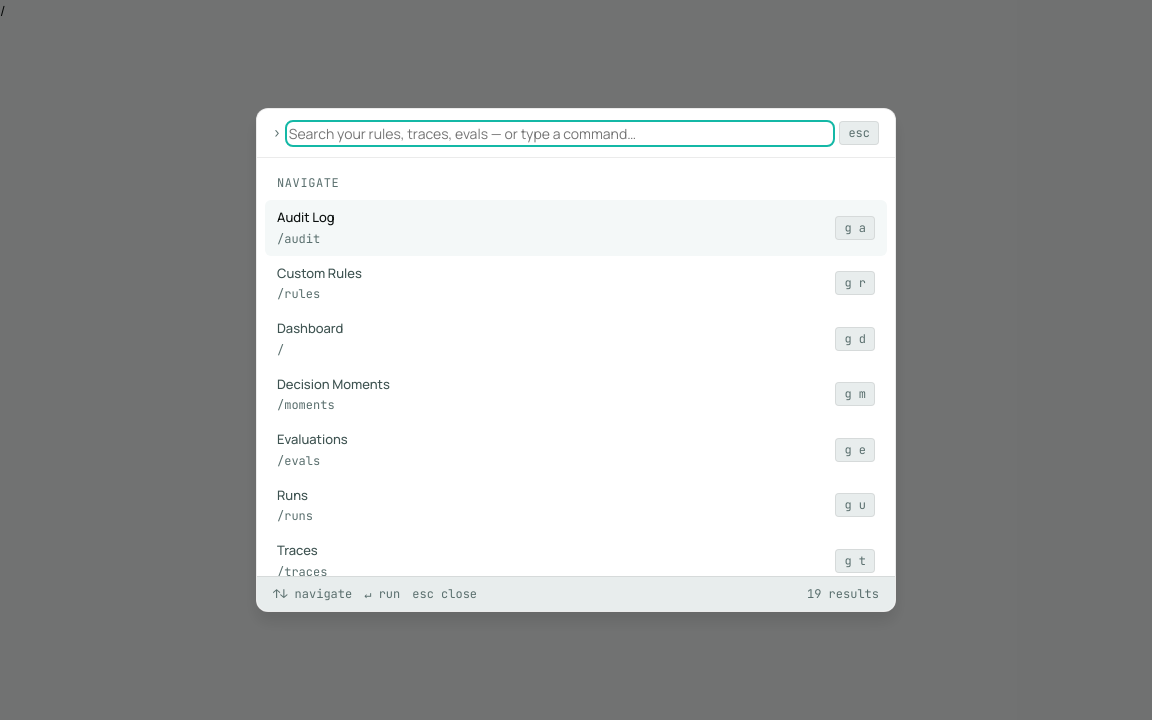
Test case: CommandPalette › data search › surfaces a deployed rule by name under a Rules section
This screenshot has width=1152, height=720.
Type "checkout_pii" into the dropdown with placeholder "Search your rules, traces, evals — or type a command…".
click(560, 133); type("checkout_pii")  # box [289, 124, 831, 142]
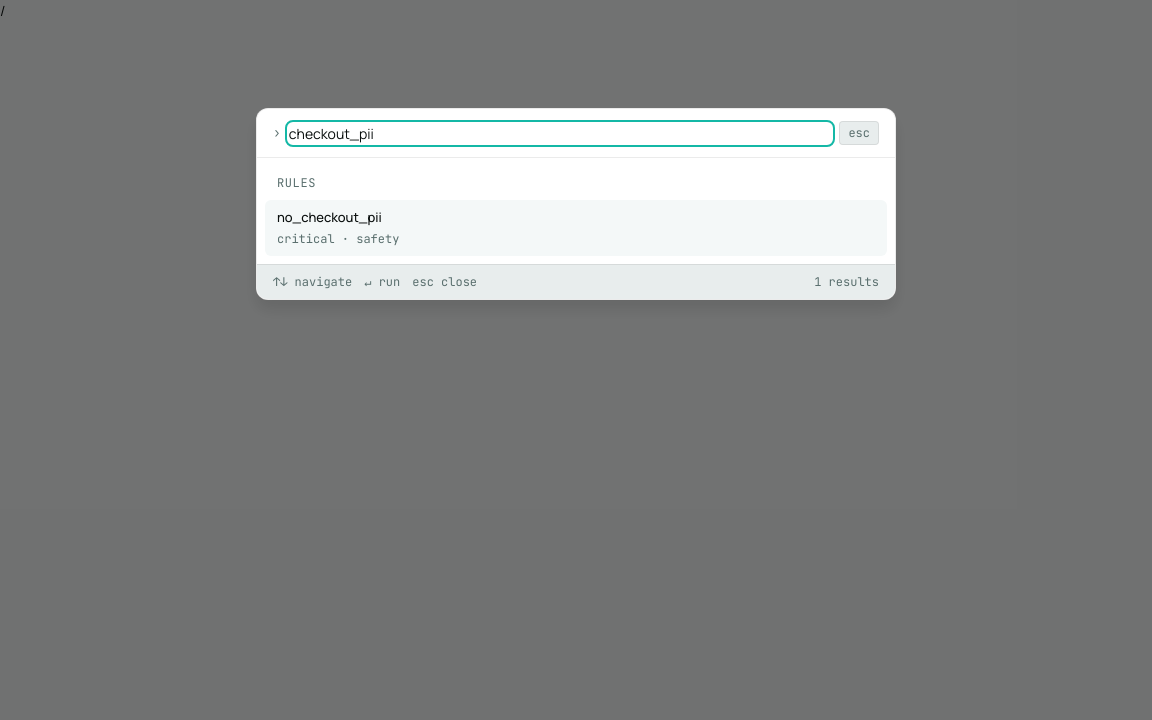
expect the text "Rules" is shown: met, box [277, 175, 316, 191]
expect the option "no_checkout_pii critical · safety" is shown: met, box [265, 200, 887, 256]
